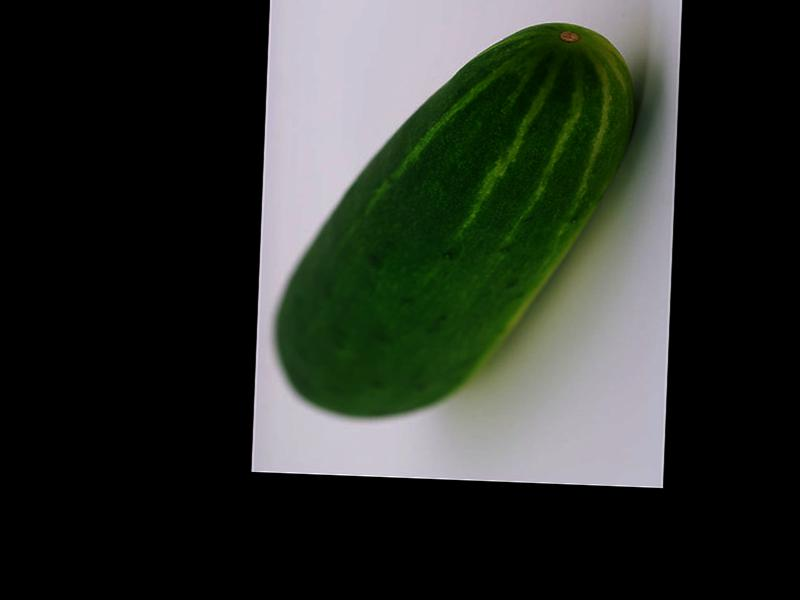Cucumber: (272, 13, 637, 427)
